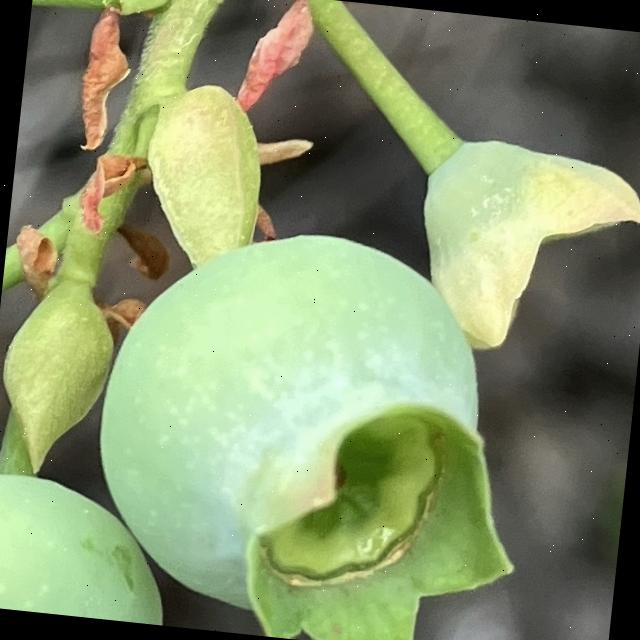Blueberries: (75, 207, 544, 640), (0, 464, 178, 625)
